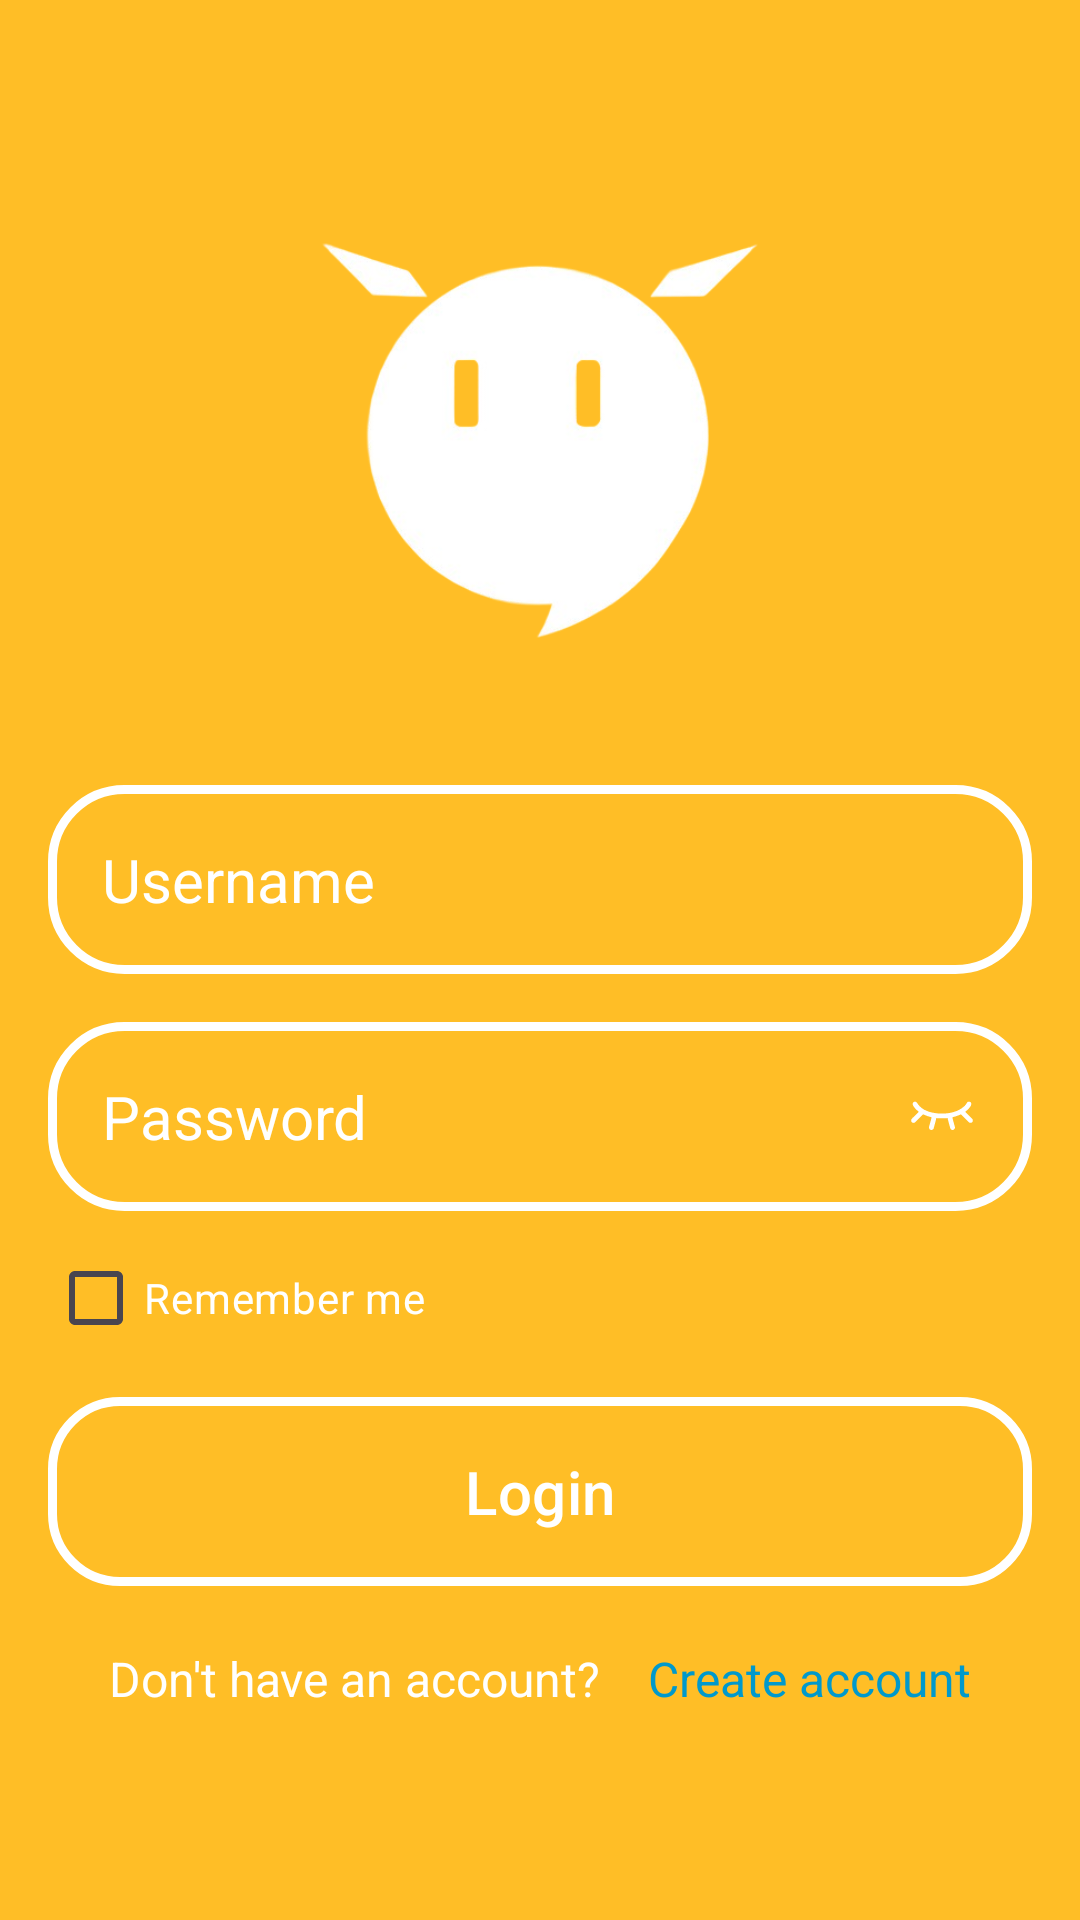

Icon click points for this 1080w x 1920h phone screenshot, format (x,y):
notview: (942,1115)
